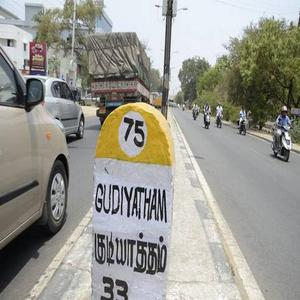kmstone: (92, 98, 167, 299)
